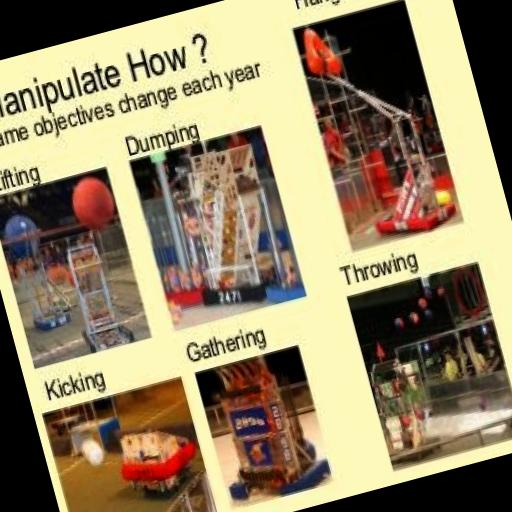robot: (313, 24, 459, 246), (168, 145, 282, 315), (203, 366, 331, 508), (54, 232, 138, 354), (365, 351, 447, 465), (6, 210, 76, 336), (112, 412, 202, 494)
